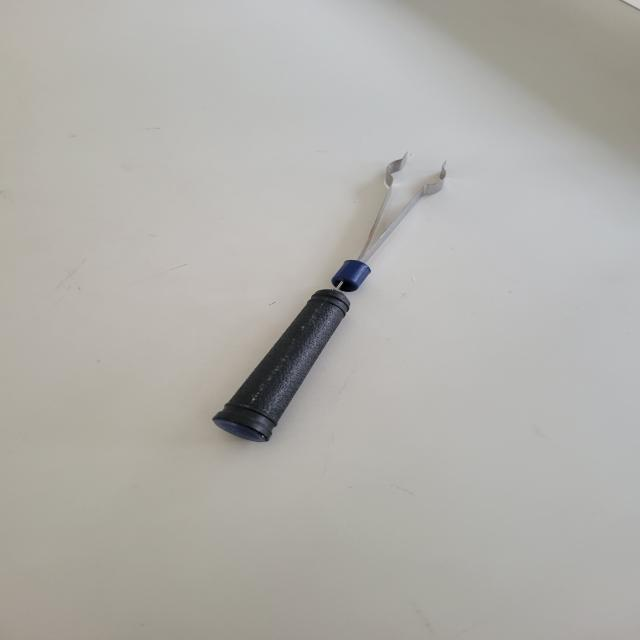TestTube_Holder: (174, 123, 482, 489)
